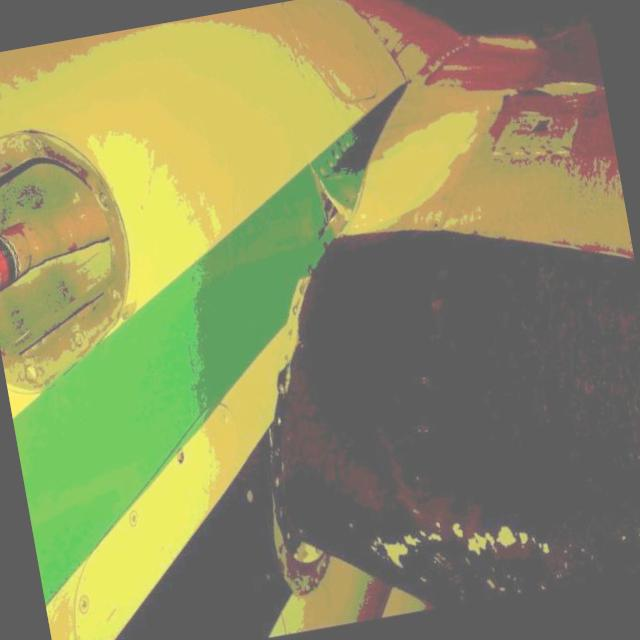crack: (311, 168, 354, 228)
